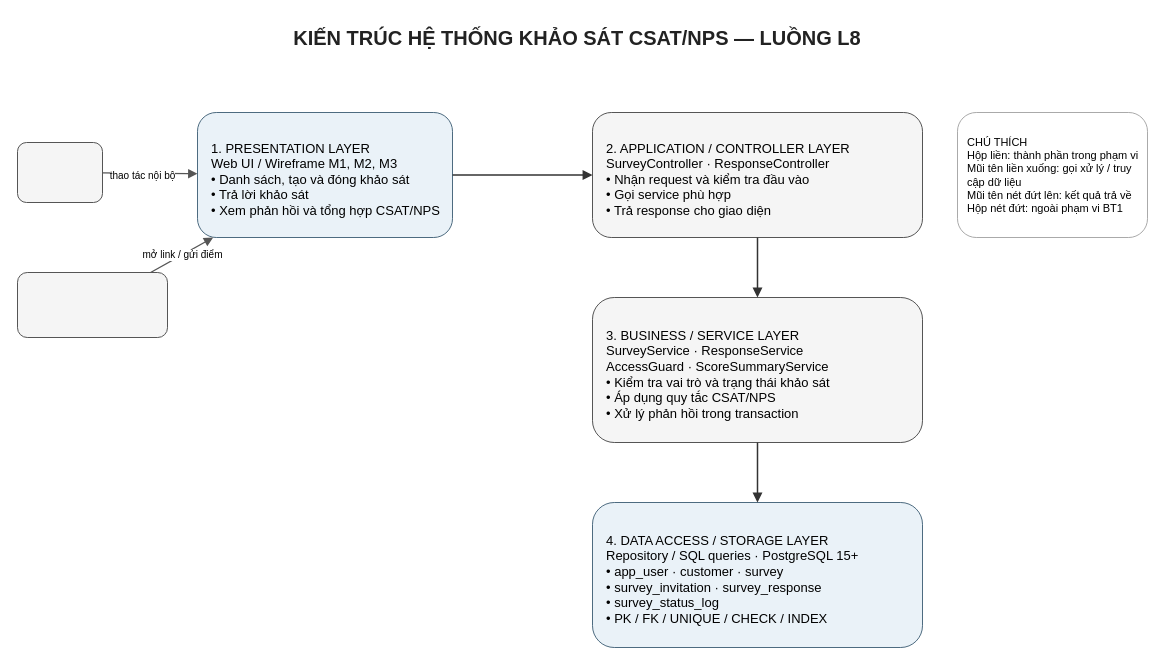
Some shapes in this 1165 by 665 pixel diagram are drawn without their labels. The box of each missing label's shape, as (x1, y1, x2, y2) in pixels:
Khách hàng (liên kết khảo sát riêng): (16, 272, 168, 338)
Nhân viên CSKH / Quản lý: (16, 142, 102, 202)
